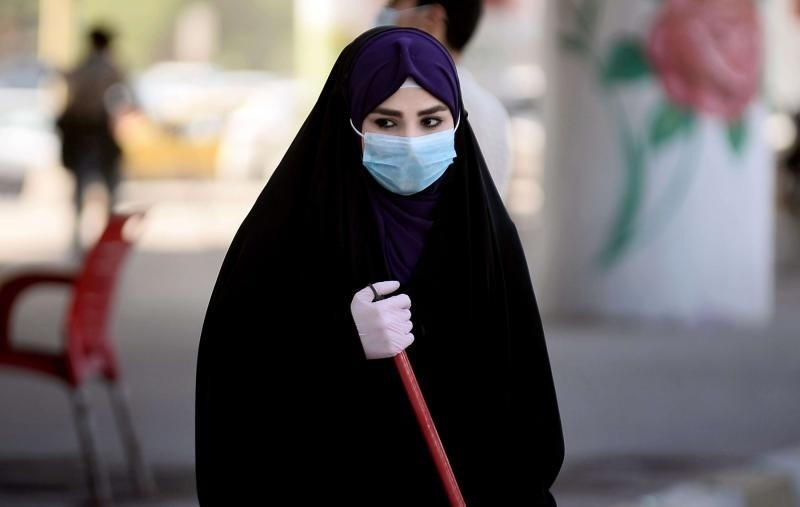face_with_mask: (322, 25, 467, 193)
